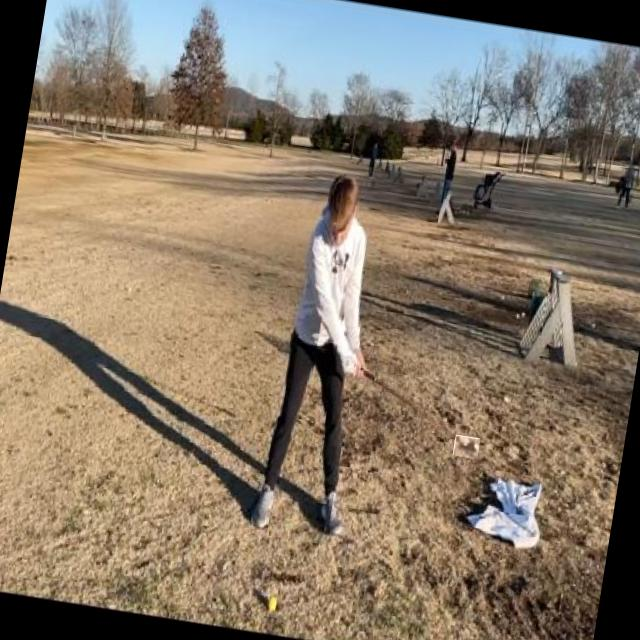club head: (452, 434, 480, 460)
